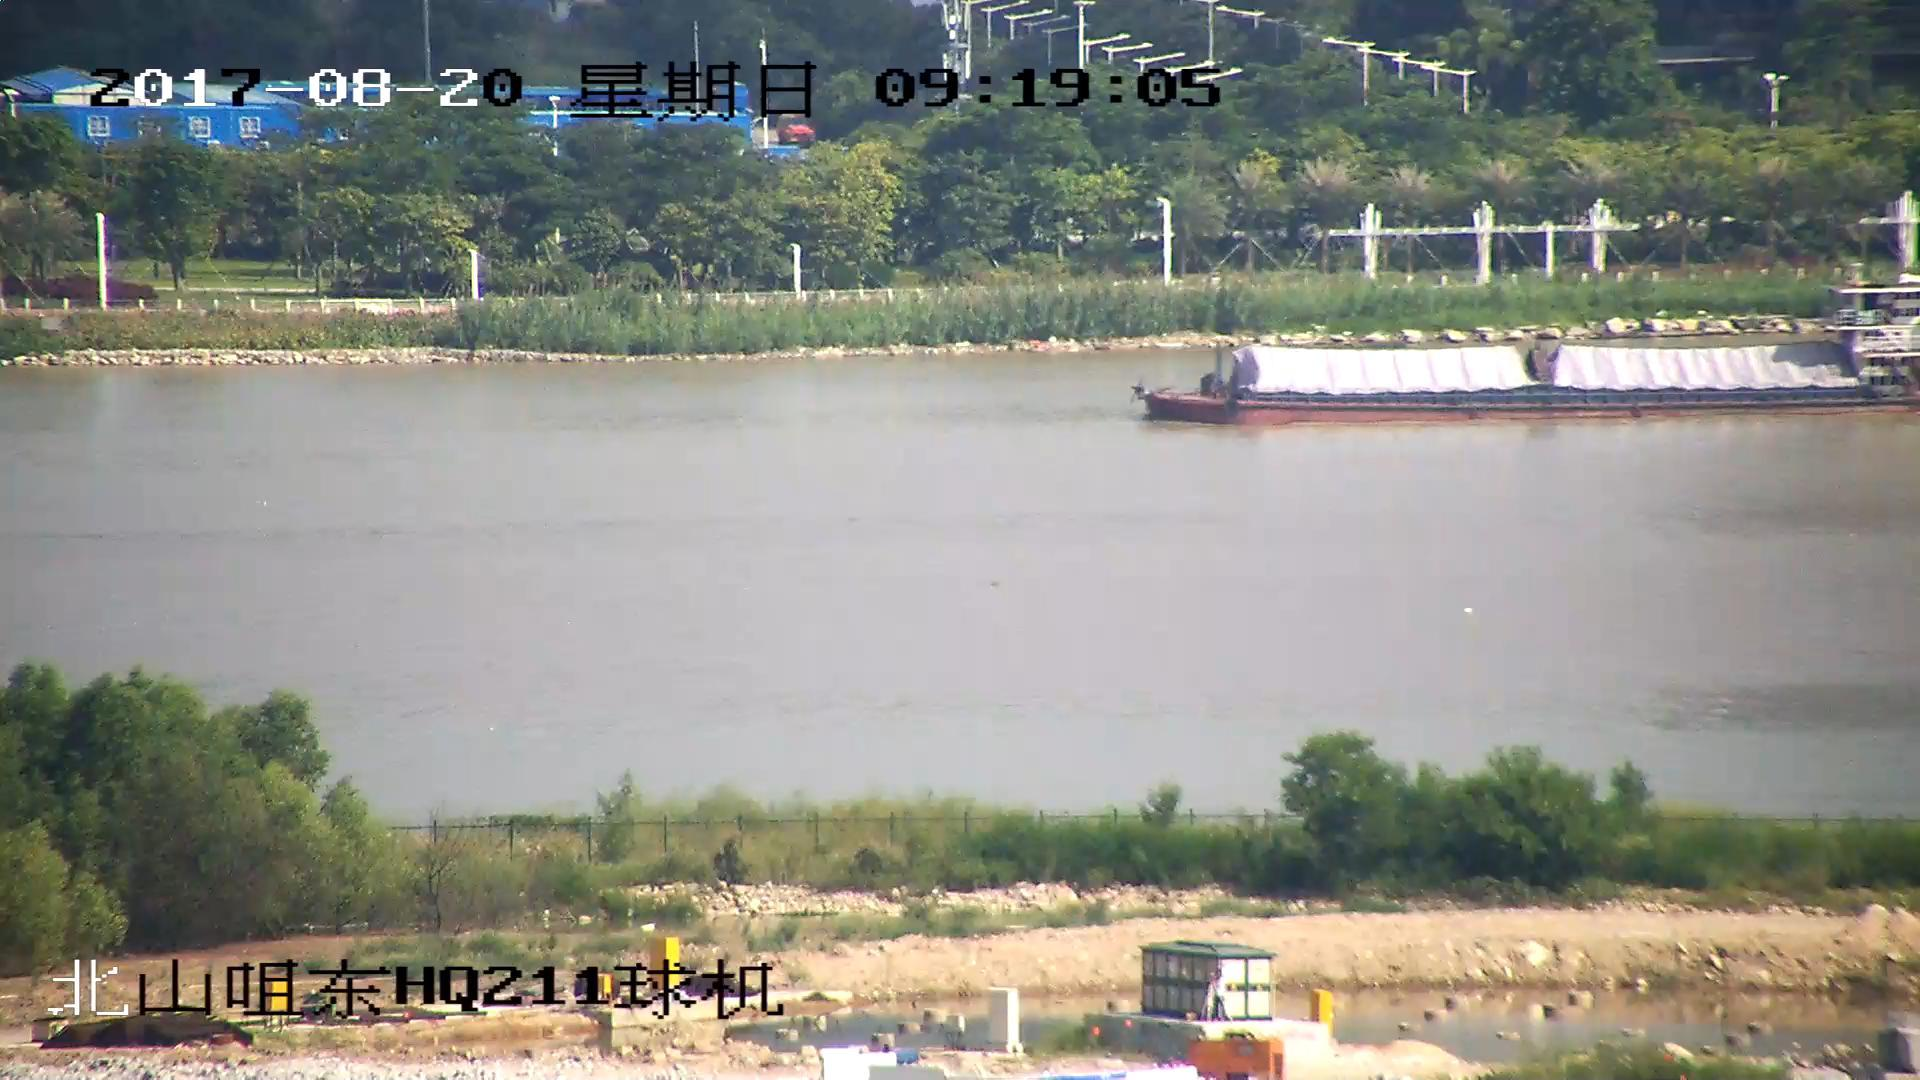Ship: (1139, 295, 1920, 426)
